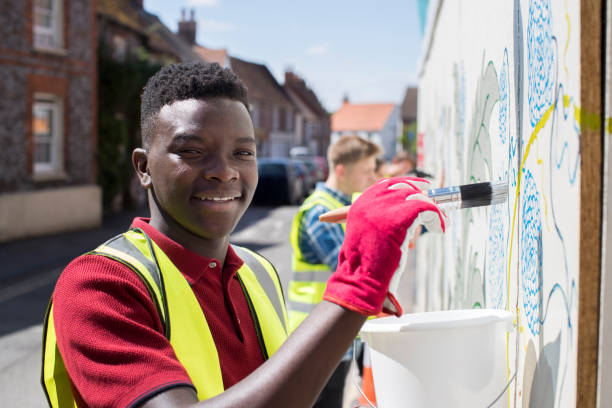face: (153, 109, 256, 235)
